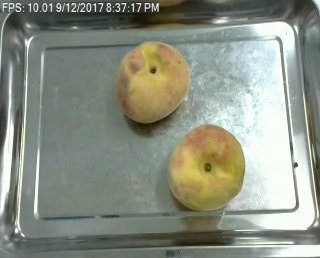Peach: (167, 122, 246, 211), (114, 41, 189, 123)
